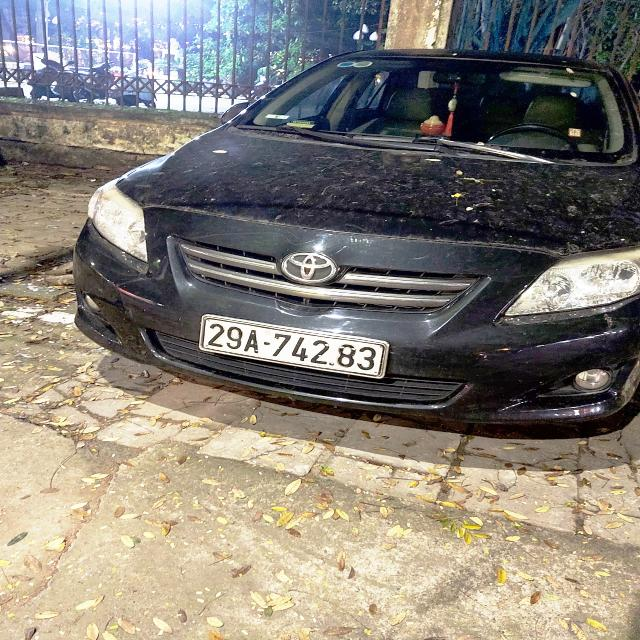license_plate: (195, 311, 394, 383)
